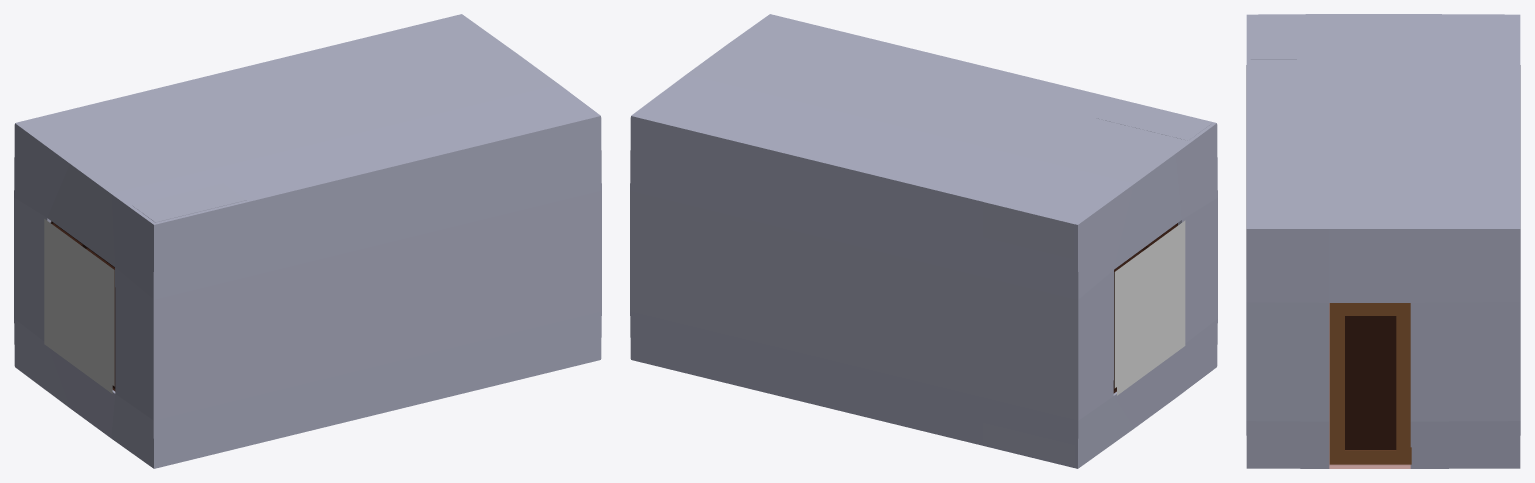
Rendered from common_area.fbx.
3 renders of one model, left to right at view 1: azimuth 30°, elevation 25°; view 2: azimuth 150°, elevation 25°; view 3: azimuth 270°, elevation 25°, orthographic.
Parts seen in each view (by area): view 1: Cube.044, Plane, Cube.003, Plane.006; view 2: Cube.044, Plane, Cube.004, Cube.003, Plane.006; view 3: Cube.044, Plane.005, Cube.003.
Part boxes in pixels (x1,y1,x2,y2): Cube.044: (14, 14, 601, 468); Plane: (44, 219, 112, 393); Cube.003: (132, 183, 246, 222); Plane.006: (50, 221, 115, 391); Cube.044: (630, 14, 1217, 468); Plane: (1117, 220, 1185, 395); Cube.004: (983, 202, 1074, 465); Cube.003: (1097, 101, 1211, 140); Plane.006: (1113, 223, 1177, 393); Cube.044: (1246, 14, 1520, 468); Plane.005: (1329, 303, 1411, 464); Cube.003: (1250, 16, 1296, 59).
Size of the model in its own units: 573 by 296 by 305.
